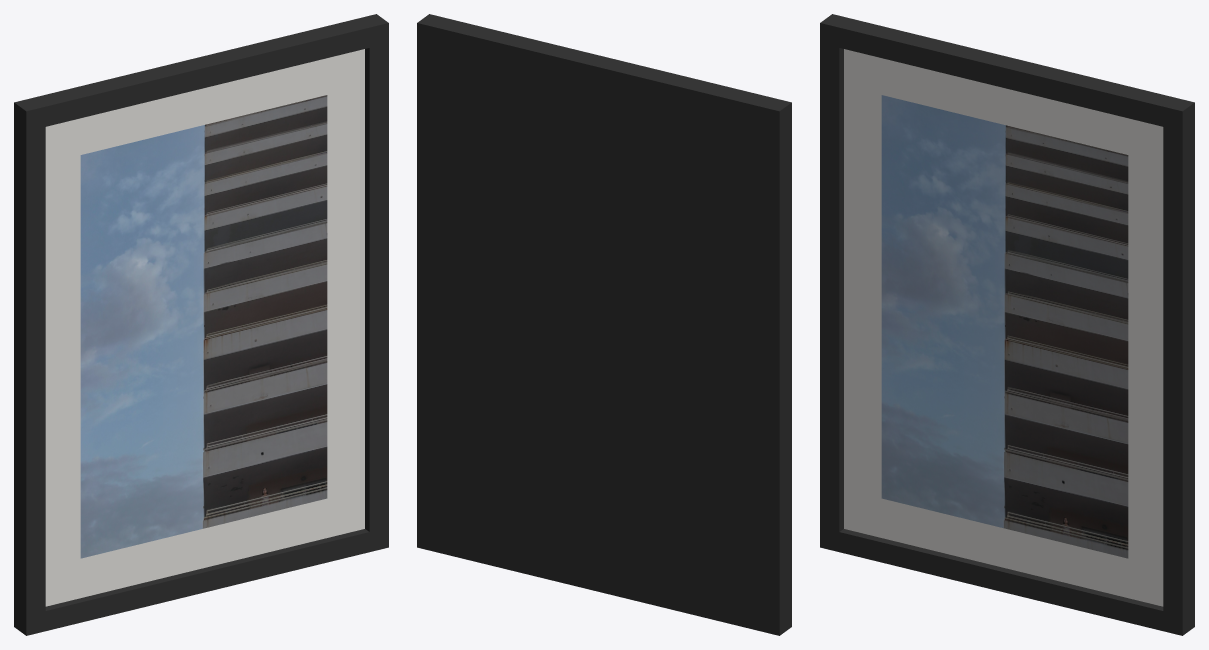
Rendered from balkongerna-40.gltf.
3 renders of one model, left to right at view 1: azimuth 30°, elevation 25°; view 2: azimuth 150°, elevation 25°; view 3: azimuth 330°, elevation 25°, orthographic.
Visible parts, largest first — view 1: tavla; view 2: tavla; view 3: tavla.
Boxes of the visible parts, left/top/right/bottom form: tavla: left=14, top=14, right=388, bottom=635; tavla: left=417, top=14, right=791, bottom=635; tavla: left=820, top=14, right=1194, bottom=635.
Size of the model in its own units: 0.376 by 0.52 by 0.022.
3 materials, 1 textured.
